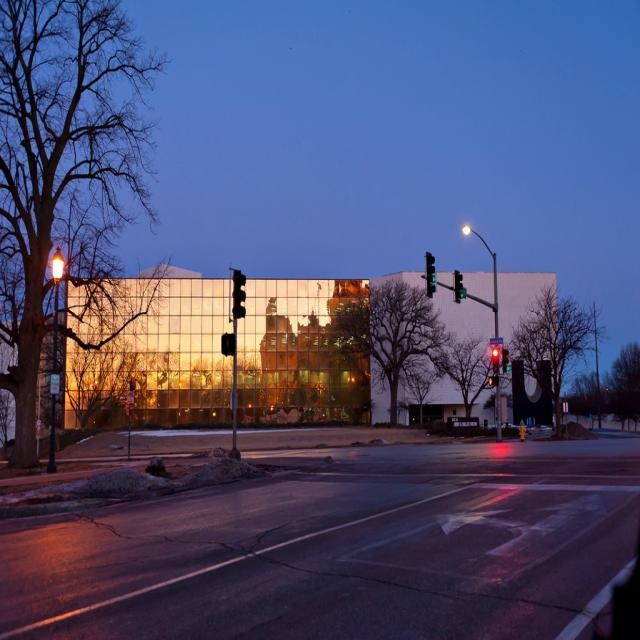off traffic light: (231, 270, 249, 320)
traffic light: (426, 252, 438, 299), (454, 267, 466, 304), (492, 344, 501, 374)
